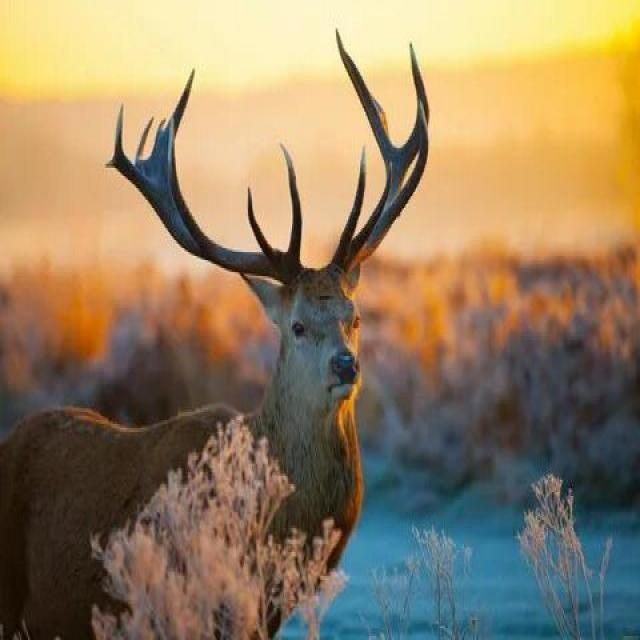deer: (70, 128, 444, 603)
